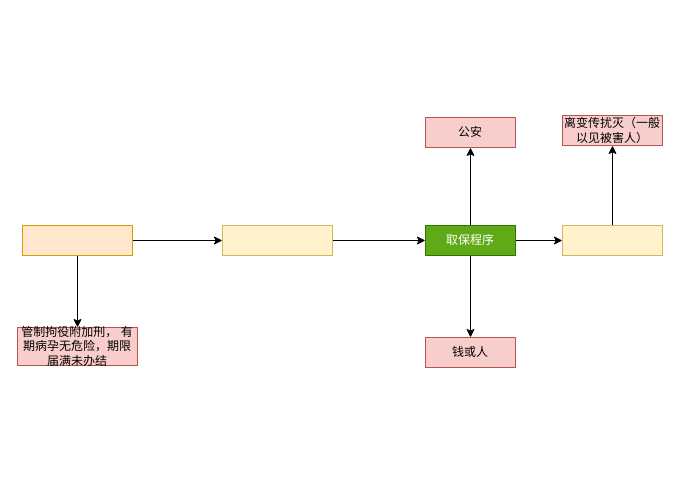
This 680x480 diagram has some shape labels left out. Each missing label, with the centre of its shape:
"公检法决定，公安执行" belongs at point (277, 240).
"取保义务和时间12" belongs at point (612, 240).
"申请（被告（被共检 ））" belongs at point (77, 240).
